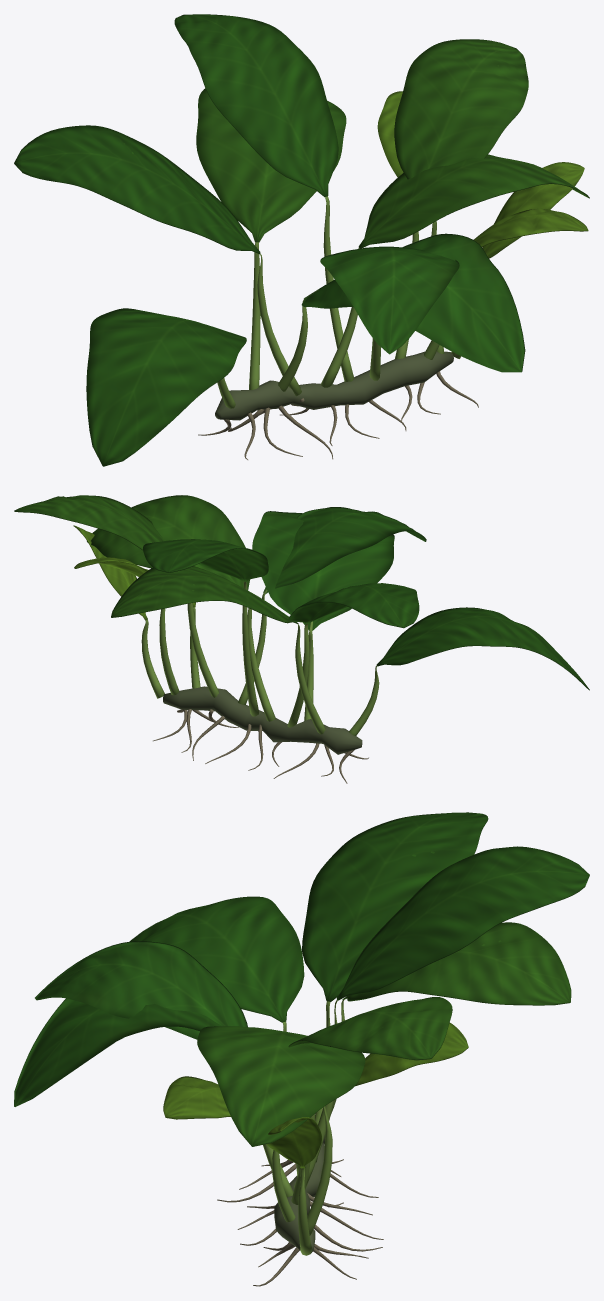
3 renders of one model, top to bottom at view 1: azimuth 30°, elevation 25°; view 2: azimuth 150°, elevation 25°; view 3: azimuth 270°, elevation 25°, orthographic. The views are drawn at different scales.
Visible parts, largest first — view 1: BroadleafV4_clump; view 2: BroadleafV4_clump; view 3: BroadleafV4_clump.
Boxes of the visible parts, x1=… form: BroadleafV4_clump: x1=14, y1=14, x2=589, y2=466; BroadleafV4_clump: x1=14, y1=495, x2=589, y2=783; BroadleafV4_clump: x1=14, y1=812, x2=589, y2=1286.
Bounding box in the file's own units: 1.36 × 0.7545 × 1.13.
5 materials, 2 textured.
